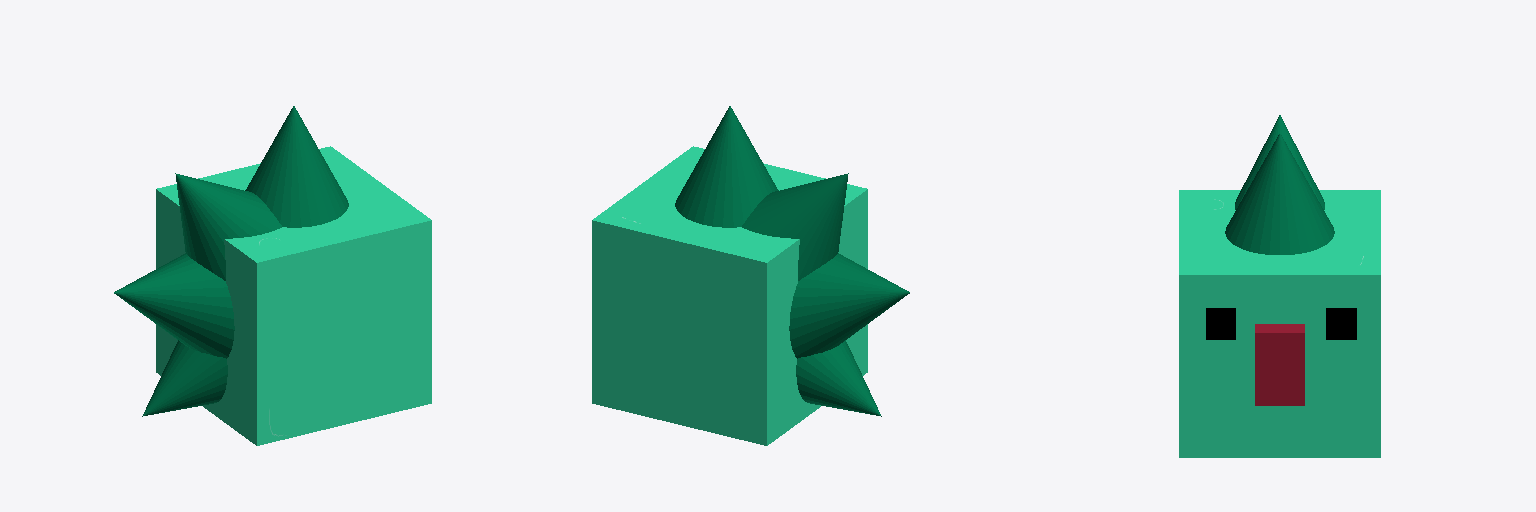
The picture shows the model from 3 angles: view 1: azimuth 30°, elevation 25°; view 2: azimuth 150°, elevation 25°; view 3: azimuth 270°, elevation 25°; orthographic projection.
Parts seen in each view (by area): view 1: 敵; view 2: 敵; view 3: 敵.
Boxes of the visible parts, <box> form: 敵: <box>114,106,431,445</box>; 敵: <box>592,106,909,445</box>; 敵: <box>1179,115,1380,457</box>.
Size of the model in its own units: 3.26 by 3.09 by 2.
1 materials, 1 textured.